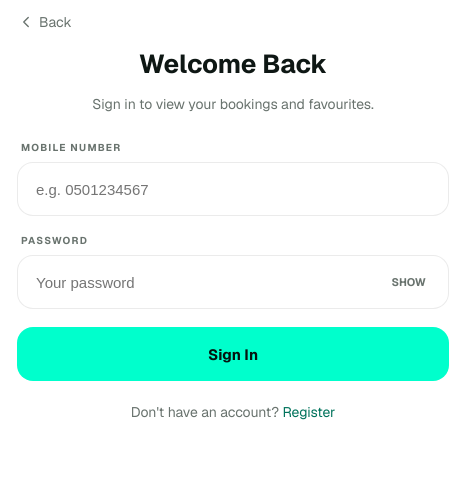
Test case: Login › shows a validation error when fields are empty
This screenshot has width=467, height=496.
Click the button "Sign In".
click(233, 354)  # box [17,327,449,381]
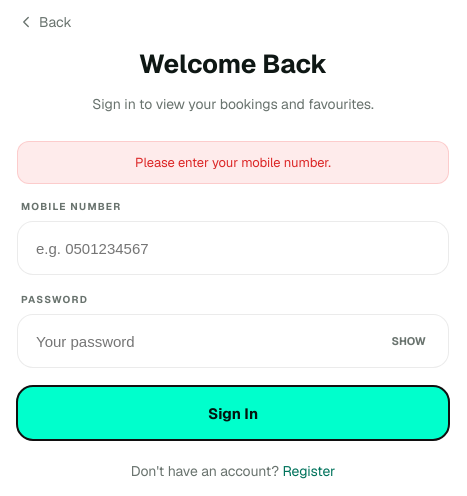
Expected: the text "Please enter your mobile number." is shown, [17,141,449,184]
